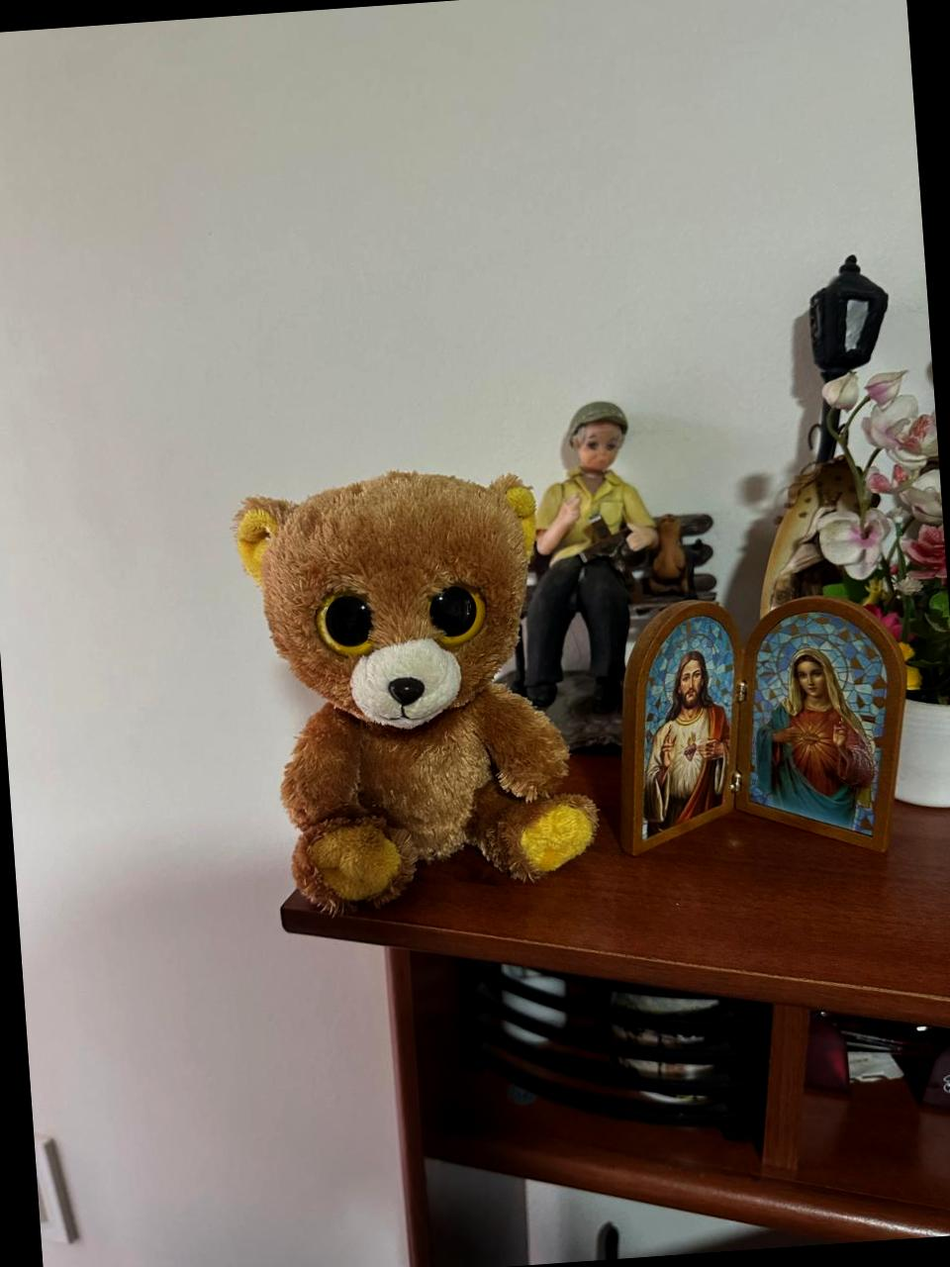peluche_sebastian: (211, 453, 600, 918)
